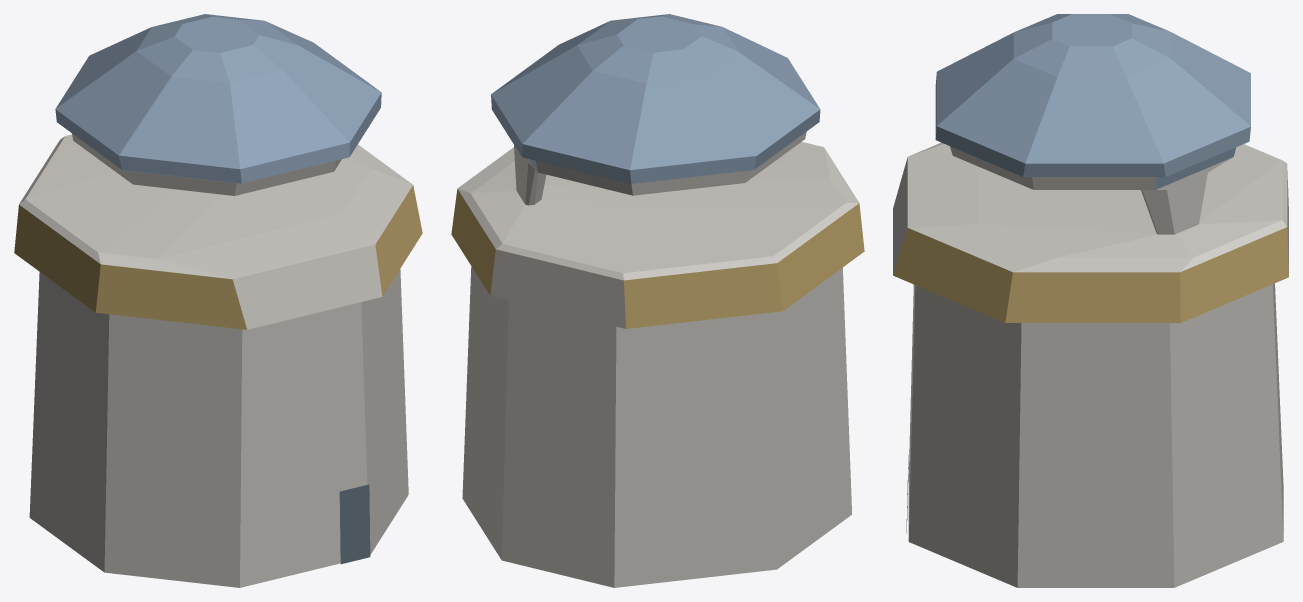
Rendered from loin.glb.
3 renders of one model, left to right at view 1: azimuth 30°, elevation 25°; view 2: azimuth 150°, elevation 25°; view 3: azimuth 270°, elevation 25°, orthographic.
Visible parts, largest first — view 1: loin; view 2: loin; view 3: loin.
Boxes of the visible parts, x1,y1,x2,y2 form: loin: (14, 14, 422, 587); loin: (451, 14, 864, 587); loin: (893, 14, 1288, 587).
Bounding box in the file's own units: 0.6797 × 0.9366 × 0.7001.
